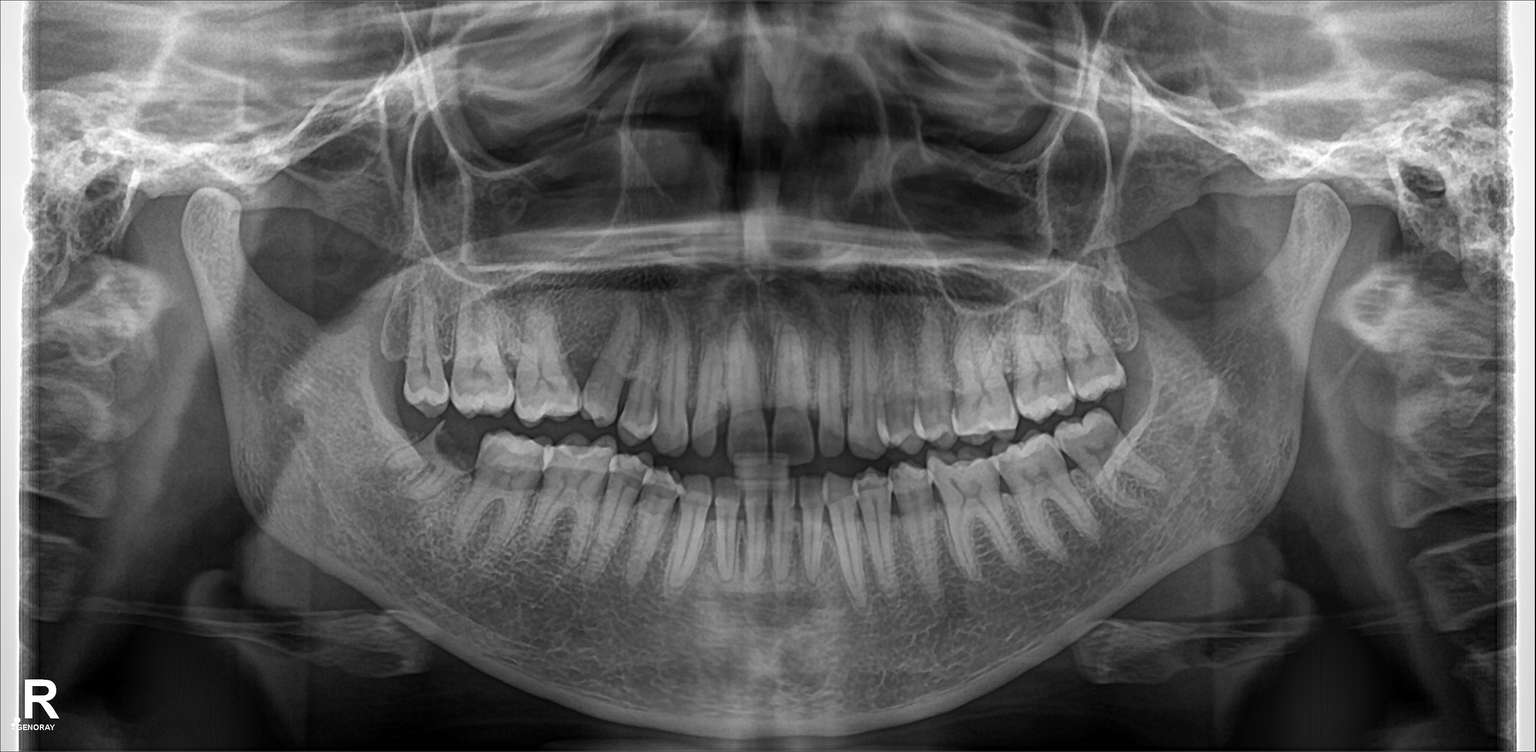Dental Caries: (426, 428, 480, 468)
Impacted Third Molar: (1073, 415, 1162, 492), (400, 434, 480, 505)
